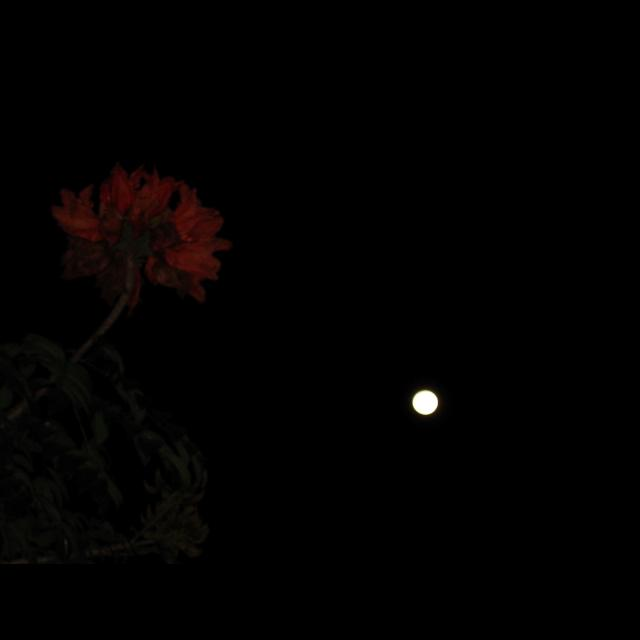Flower: (39, 166, 225, 392)
